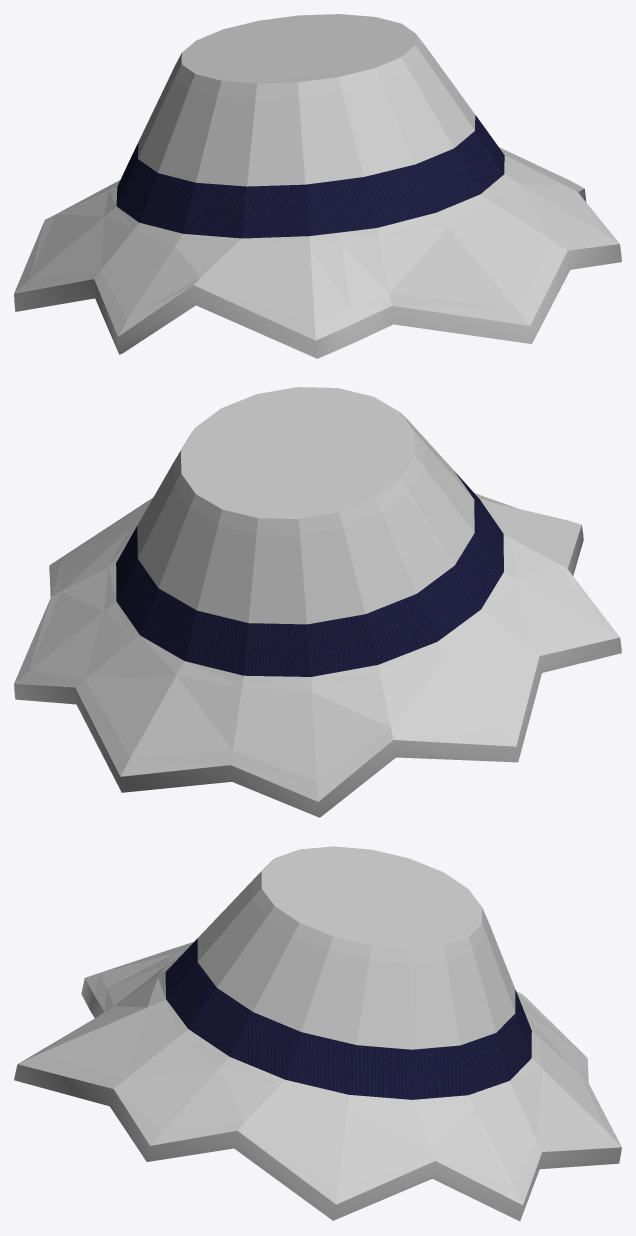
Rendered from LampLight_3DAsset_PodHat.FBX.
3 renders of one model, top to bottom at view 1: azimuth 30°, elevation 25°; view 2: azimuth 150°, elevation 25°; view 3: azimuth 270°, elevation 25°, orthographic. The views are drawn at different scales.
Visible parts, largest first — view 1: Cylinder001; view 2: Cylinder001; view 3: Cylinder001.
Part boxes in pixels (x1,y1,x2,y2): Cylinder001: (14,14,621,358); Cylinder001: (14,387,621,817); Cylinder001: (14,846,621,1221).
Size of the model in its own units: 110 by 55.39 by 117.
